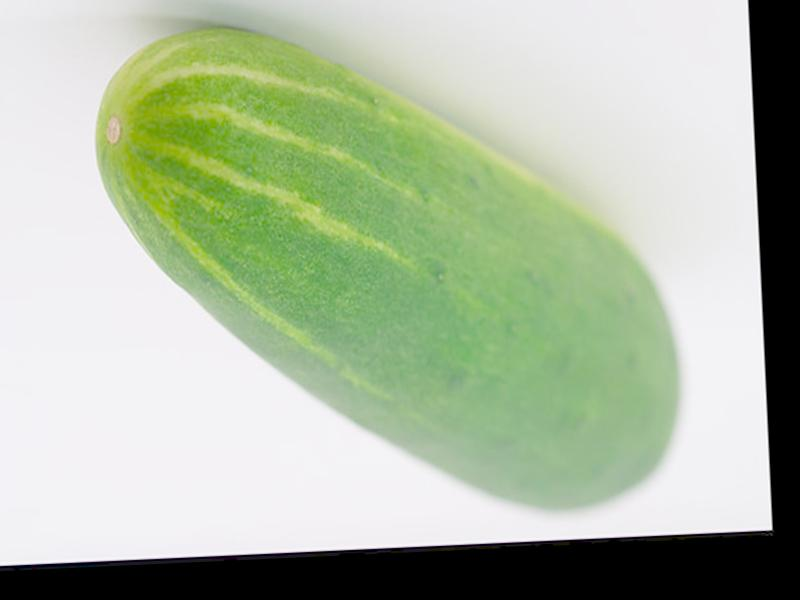Cucumber: (91, 8, 686, 532)
